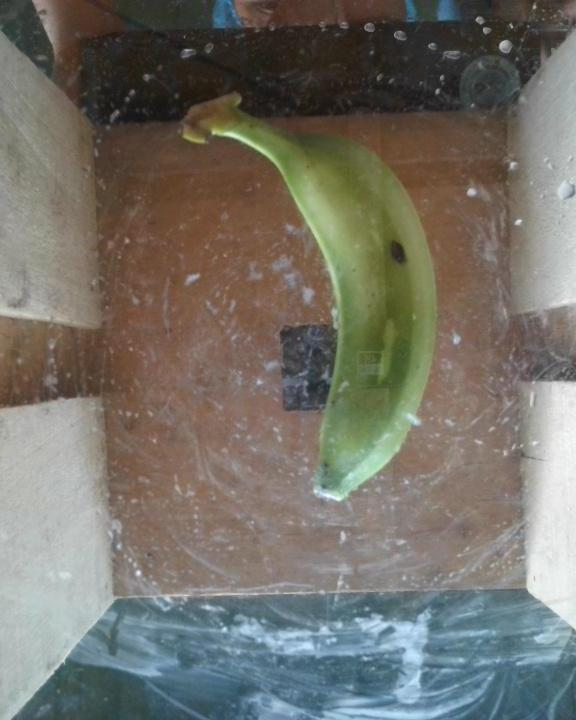CLASS B: (174, 89, 451, 505)
Class A: (379, 234, 420, 273)
